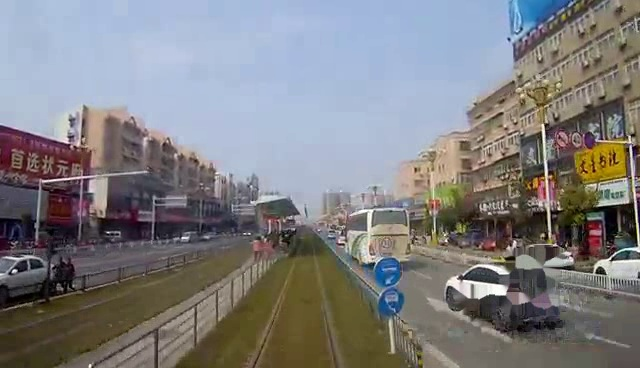bus: (346, 203, 413, 268)
car: (444, 260, 558, 329)
